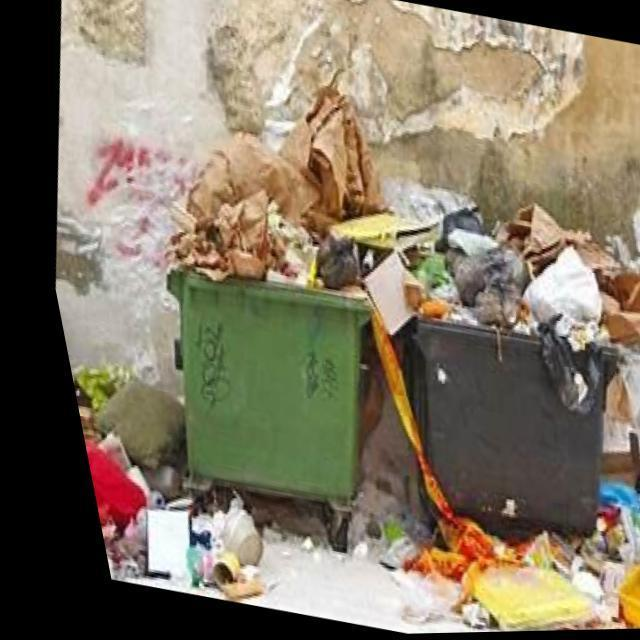Garbage: (155, 122, 375, 287), (387, 464, 569, 633), (81, 381, 167, 468), (67, 436, 129, 530), (512, 249, 589, 324), (128, 509, 167, 577)
